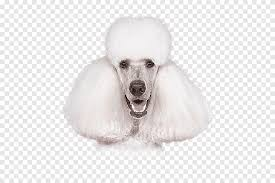Bulldog: (73, 14, 215, 160)
